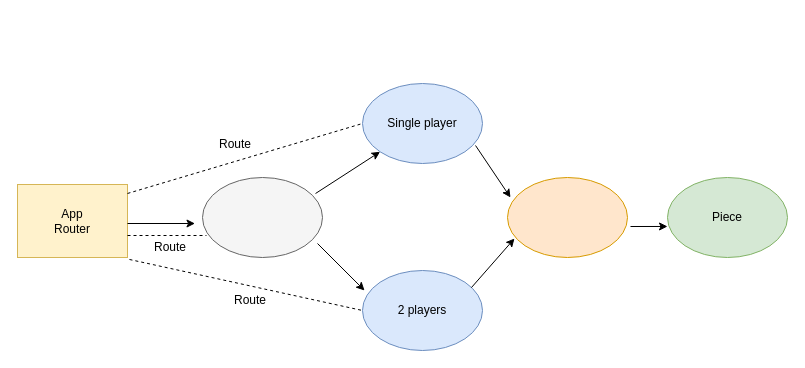
This 805x368 diagram has some shape labels left out. The centre of each missing label's shape, as x and y in pixels:
"Board" belongs at point (567, 217).
"Instructions" belongs at point (262, 217).
